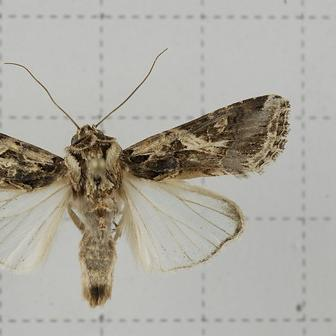Spodoptera litura: (1, 48, 291, 309)
